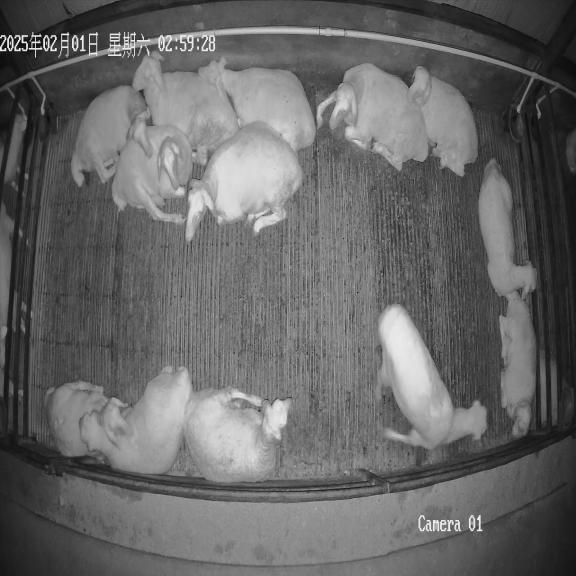lying: (185, 122, 303, 242), (79, 366, 192, 474), (132, 53, 240, 165), (316, 64, 428, 170), (198, 57, 316, 151), (183, 388, 292, 483), (71, 85, 153, 187), (478, 159, 536, 298), (112, 126, 192, 224), (409, 66, 477, 176), (46, 381, 132, 457), (499, 291, 536, 438)
stand: (375, 304, 487, 449)
